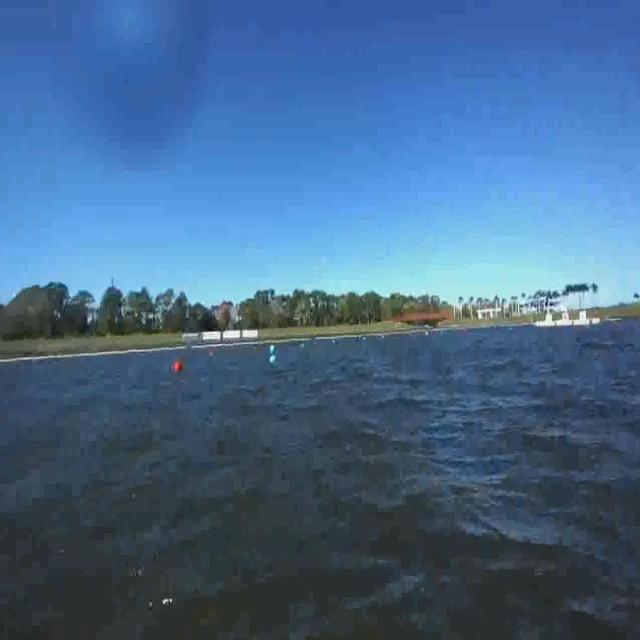green-buoy: (268, 354, 277, 370)
red-buoy: (174, 359, 182, 372)
